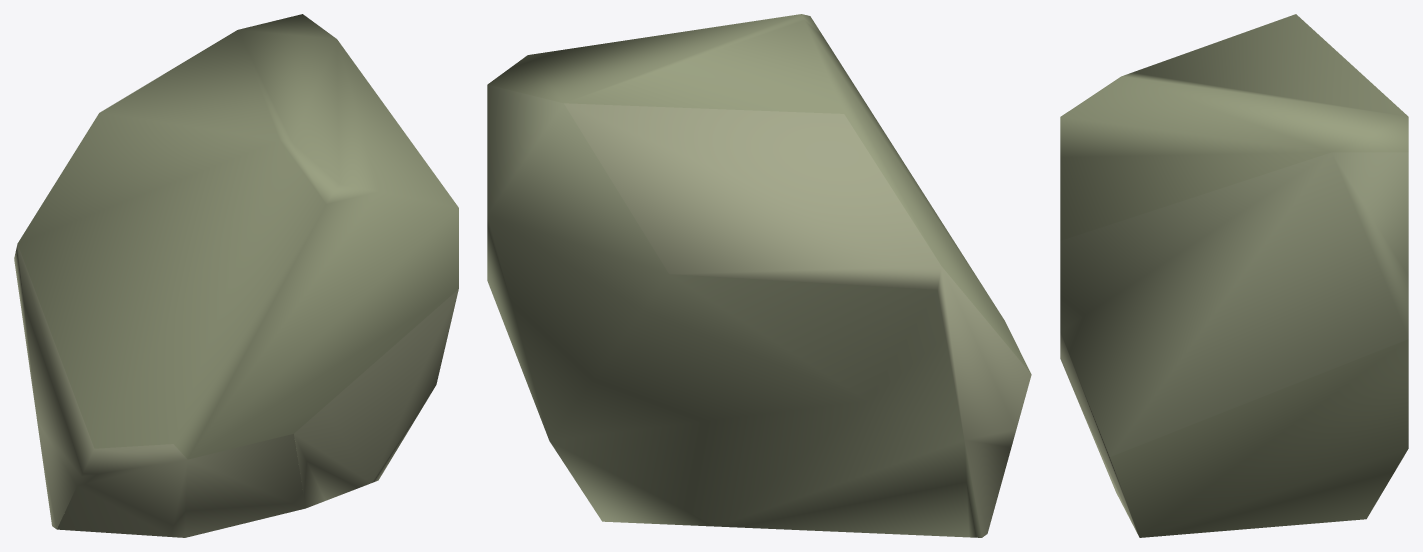
Rendered from lrock6.glb.
3 renders of one model, left to right at view 1: azimuth 30°, elevation 25°; view 2: azimuth 150°, elevation 25°; view 3: azimuth 270°, elevation 25°, orthographic. The views are drawn at different scales.
Visible parts, largest first — view 1: lrock6; view 2: lrock6; view 3: lrock6.
Boxes of the visible parts, bbox=[...] form: lrock6: bbox=[14, 14, 458, 537]; lrock6: bbox=[487, 14, 1031, 537]; lrock6: bbox=[1060, 14, 1408, 537].
Bounding box in the file's own units: 4.74 × 4.95 × 3.81.
